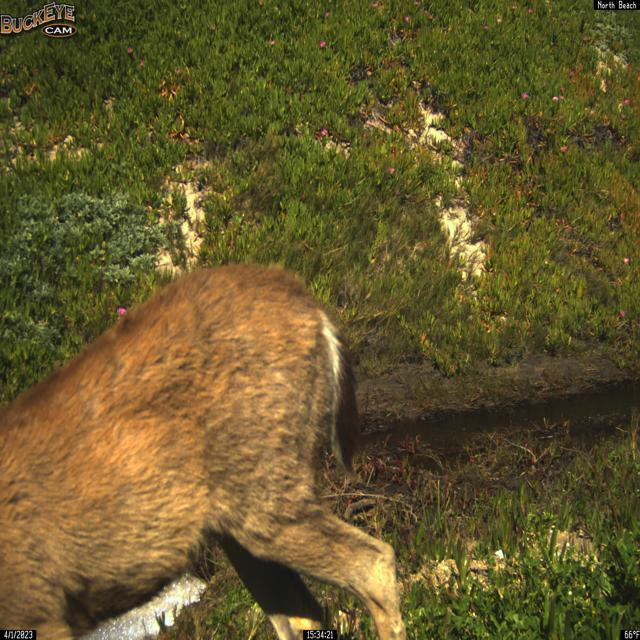deer: (0, 262, 410, 640)
